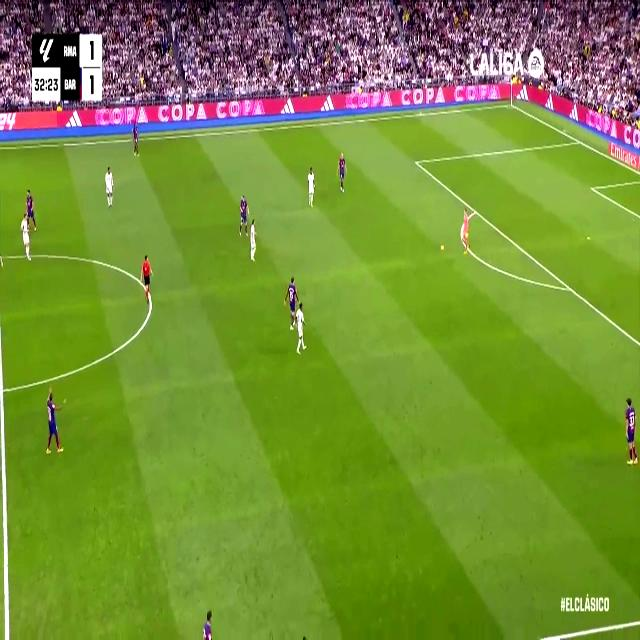bigarea_top_inner: (412, 154, 420, 169)
bottom_arc_area_intersection: (564, 278, 574, 297)
corner: (507, 99, 515, 110)
halfcircle_bottom: (0, 376, 8, 402)
smallarea_top_inner: (588, 181, 596, 195)
top_arc_area_intersection: (472, 202, 479, 218)
